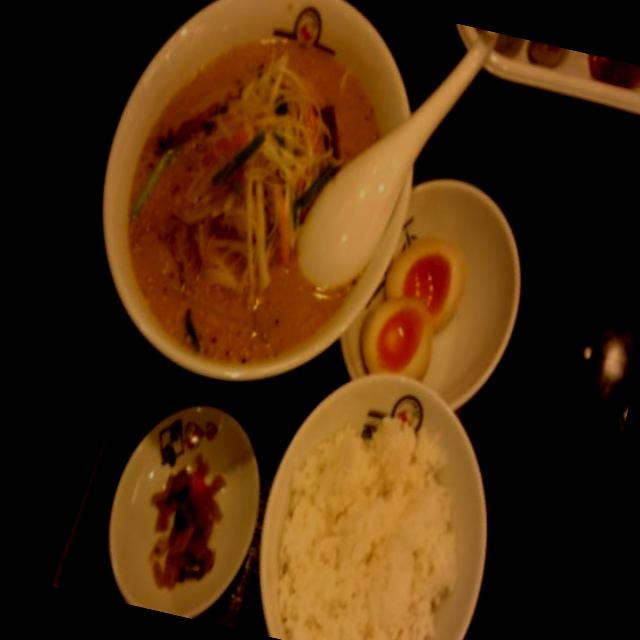Rice: (253, 388, 487, 640)
